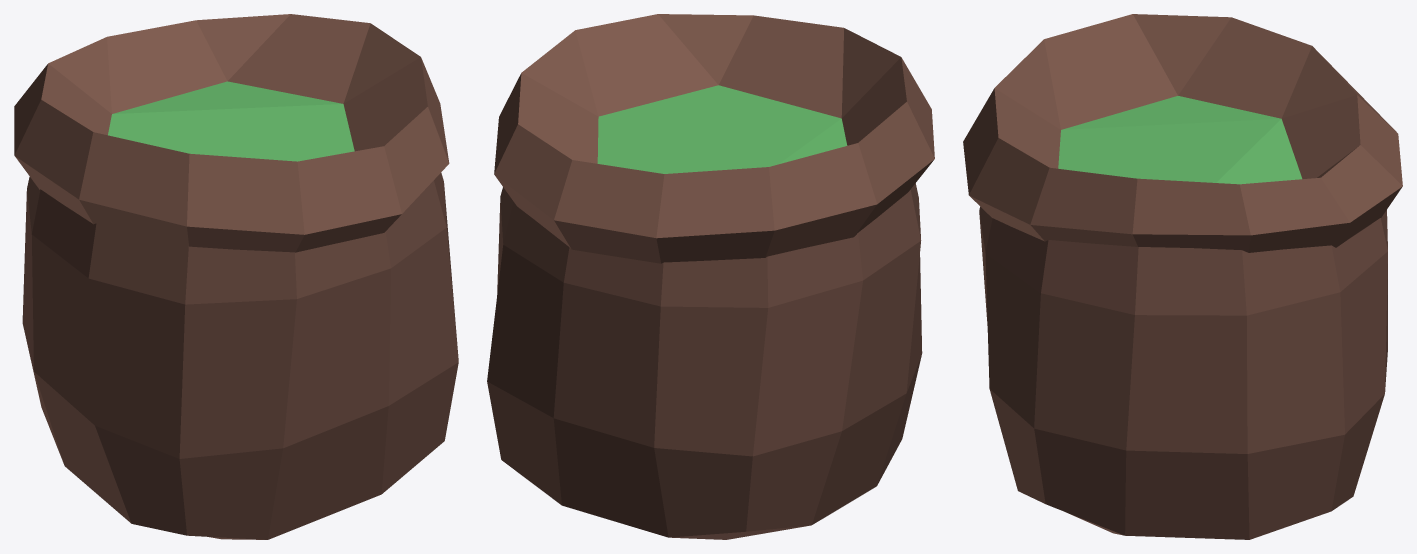
Rendered from prop_038.fbx.
The picture shows the model from 3 angles, left to right: view 1: azimuth 30°, elevation 25°; view 2: azimuth 150°, elevation 25°; view 3: azimuth 270°, elevation 25°; orthographic projection. The views are drawn at different scales.
Parts seen in each view (by area): view 1: prop.038; view 2: prop.038; view 3: prop.038.
Boxes of the visible parts, x1,y1,x2,y2 form: prop.038: (14,14,458,539); prop.038: (487,14,934,539); prop.038: (963,14,1402,539).
Bounding box in the file's own units: 117 × 126 × 120.
Materials: 1 (1 with a texture image).
